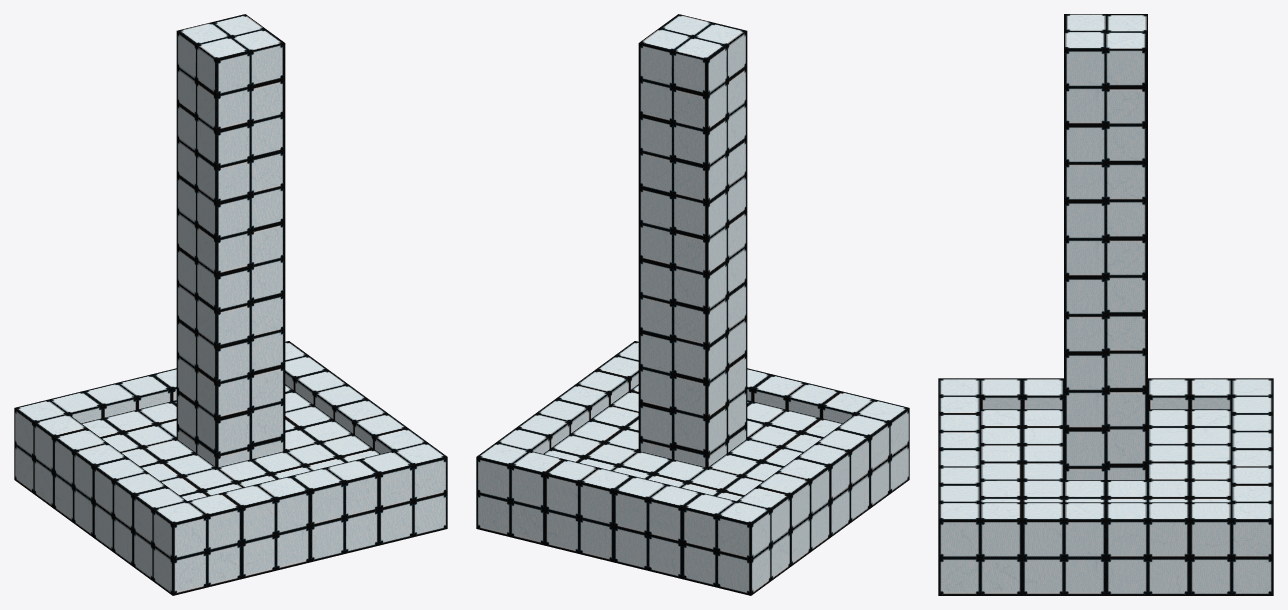
The model's file is Brunnen.fbx.
3 views of the same model, side by side, from view 1: azimuth 30°, elevation 25°; view 2: azimuth 150°, elevation 25°; view 3: azimuth 270°, elevation 25° (orthographic). The views are drawn at different scales.
Parts seen in each view (by area): view 1: polySurface653, polySurface654; view 2: polySurface653, polySurface654; view 3: polySurface653, polySurface654.
Part boxes in pixels (box(x1,y1,x2,y2)): polySurface653: box(14, 14, 447, 595); polySurface654: box(81, 384, 380, 500); polySurface653: box(476, 14, 909, 595); polySurface654: box(543, 384, 842, 500); polySurface653: box(938, 14, 1273, 595); polySurface654: box(980, 409, 1231, 502).
Size of the model in its own units: 2 by 3.25 by 2.
